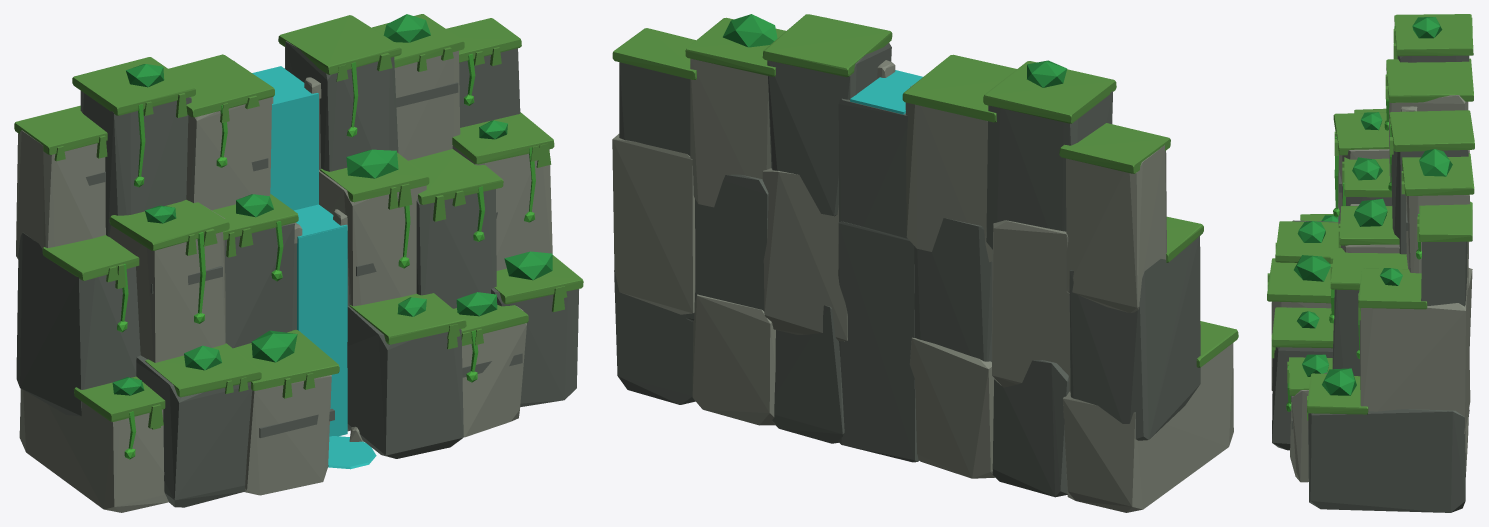
File: Jungle_2_WaterfallCliff.fbx
3 renders of one model, left to right at view 1: azimuth 30°, elevation 25°; view 2: azimuth 150°, elevation 25°; view 3: azimuth 270°, elevation 25°, orthographic. The views are drawn at different scales.
Visible parts, largest first — view 1: Jungle_2_WaterfallCliff__Jungle_StoneDark, Jungle_2_WaterfallCliff__Jungle_Stone, Jungle_2_WaterfallCliff__Jungle_Moss, Jungle_2_WaterfallCliff__Jungle_Water, Jungle_2_WaterfallCliff__Jungle_Leaf, Jungle_2_WaterfallCliff__Jungle_Vine; view 2: Jungle_2_WaterfallCliff__Jungle_StoneDark, Jungle_2_WaterfallCliff__Jungle_Stone, Jungle_2_WaterfallCliff__Jungle_Moss, Jungle_2_WaterfallCliff__Jungle_Leaf, Jungle_2_WaterfallCliff__Jungle_Water; view 3: Jungle_2_WaterfallCliff__Jungle_Moss, Jungle_2_WaterfallCliff__Jungle_StoneDark, Jungle_2_WaterfallCliff__Jungle_Stone, Jungle_2_WaterfallCliff__Jungle_Leaf, Jungle_2_WaterfallCliff__Jungle_Vine.
Part boxes in pixels (<box>): Jungle_2_WaterfallCliff__Jungle_StoneDark: <box>16,41,579,507</box>; Jungle_2_WaterfallCliff__Jungle_Stone: <box>16,50,552,512</box>; Jungle_2_WaterfallCliff__Jungle_Moss: <box>14,14,583,429</box>; Jungle_2_WaterfallCliff__Jungle_Water: <box>252,66,376,469</box>; Jungle_2_WaterfallCliff__Jungle_Leaf: <box>112,14,552,395</box>; Jungle_2_WaterfallCliff__Jungle_Vine: <box>117,53,535,459</box>; Jungle_2_WaterfallCliff__Jungle_StoneDark: <box>614,43,1200,497</box>; Jungle_2_WaterfallCliff__Jungle_Stone: <box>612,58,1233,512</box>; Jungle_2_WaterfallCliff__Jungle_Moss: <box>612,14,1238,367</box>; Jungle_2_WaterfallCliff__Jungle_Leaf: <box>723,14,1066,87</box>; Jungle_2_WaterfallCliff__Jungle_Water: <box>850,70,923,114</box>; Jungle_2_WaterfallCliff__Jungle_Moss: <box>1267,14,1474,420</box>; Jungle_2_WaterfallCliff__Jungle_StoneDark: <box>1272,55,1469,512</box>; Jungle_2_WaterfallCliff__Jungle_Stone: <box>1271,95,1472,482</box>; Jungle_2_WaterfallCliff__Jungle_Leaf: <box>1294,17,1452,395</box>; Jungle_2_WaterfallCliff__Jungle_Vine: <box>1286,26,1421,411</box>.
Size of the model in its own units: 122 by 89.81 by 50.62.
